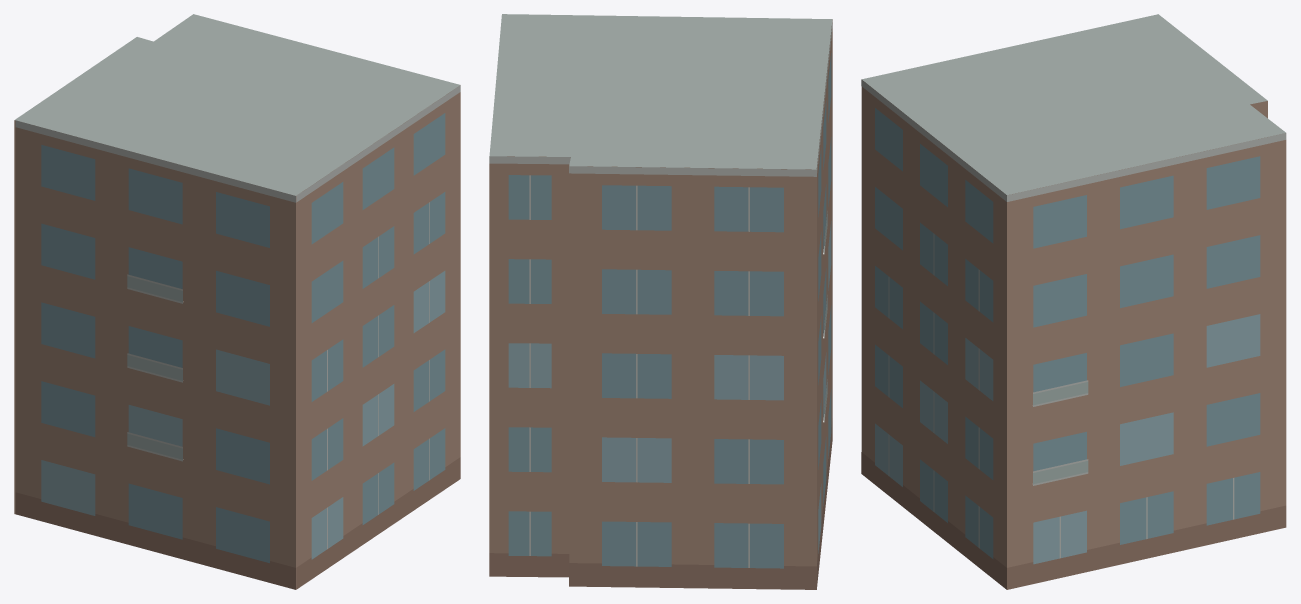
Rendered from survey-upis-32839082.glb.
The picture shows the model from 3 angles, left to right: view 1: azimuth 30°, elevation 25°; view 2: azimuth 150°, elevation 25°; view 3: azimuth 270°, elevation 25°; orthographic projection. The views are drawn at different scales.
Visible parts, largest first — view 1: survey-upis-32839082.tmp; view 2: survey-upis-32839082.tmp; view 3: survey-upis-32839082.tmp.
Part boxes in pixels (x1,y1,x2,y2): survey-upis-32839082.tmp: (14,14,460,589); survey-upis-32839082.tmp: (489,14,832,589); survey-upis-32839082.tmp: (861,14,1286,589).
Size of the model in its own units: 13.77 by 13.97 by 13.64.
